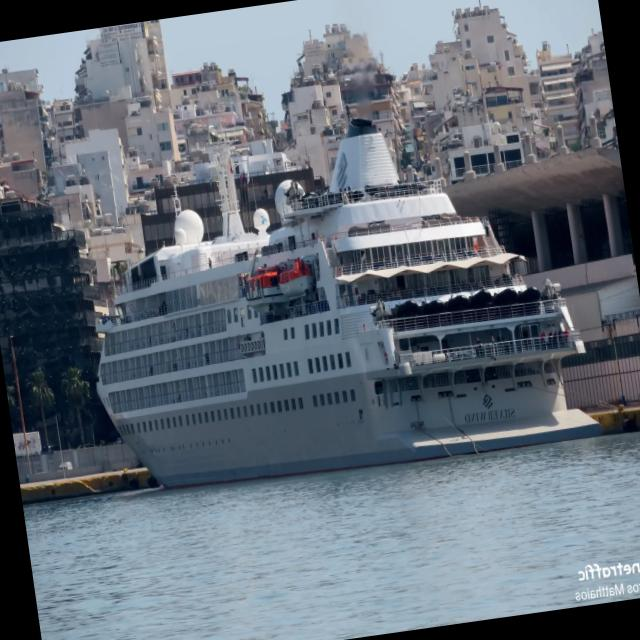Cruise: (98, 120, 598, 487)
